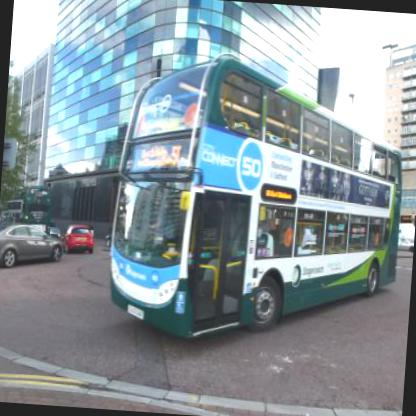bus: (105, 46, 413, 354)
